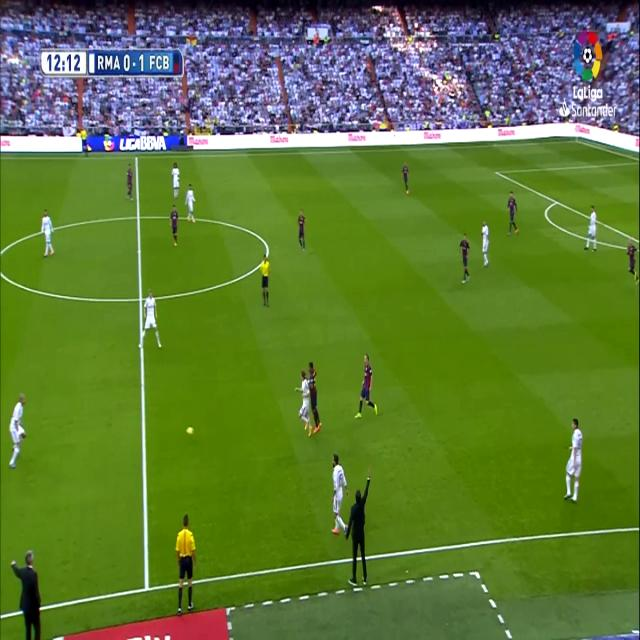corner: (572, 136, 580, 146)
halfcircle_bottom: (135, 285, 147, 311)
halfcircle_top: (133, 206, 143, 228)
midline_bottom_intersection: (140, 570, 154, 597)
midline_top_intersection: (133, 151, 141, 165)
top_arc_area_intersection: (552, 194, 560, 208)
